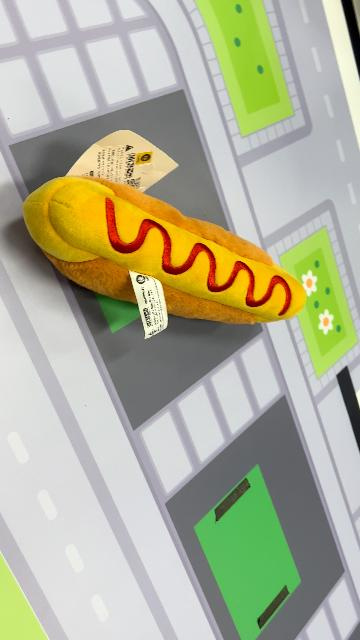hotdog: (22, 175, 308, 328)
